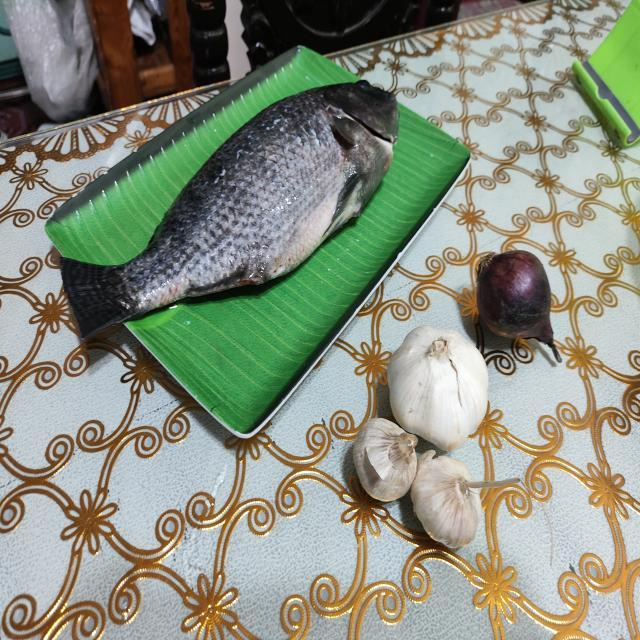fish: (58, 83, 399, 343)
garlic: (346, 323, 501, 562)
onion: (476, 242, 555, 349)
